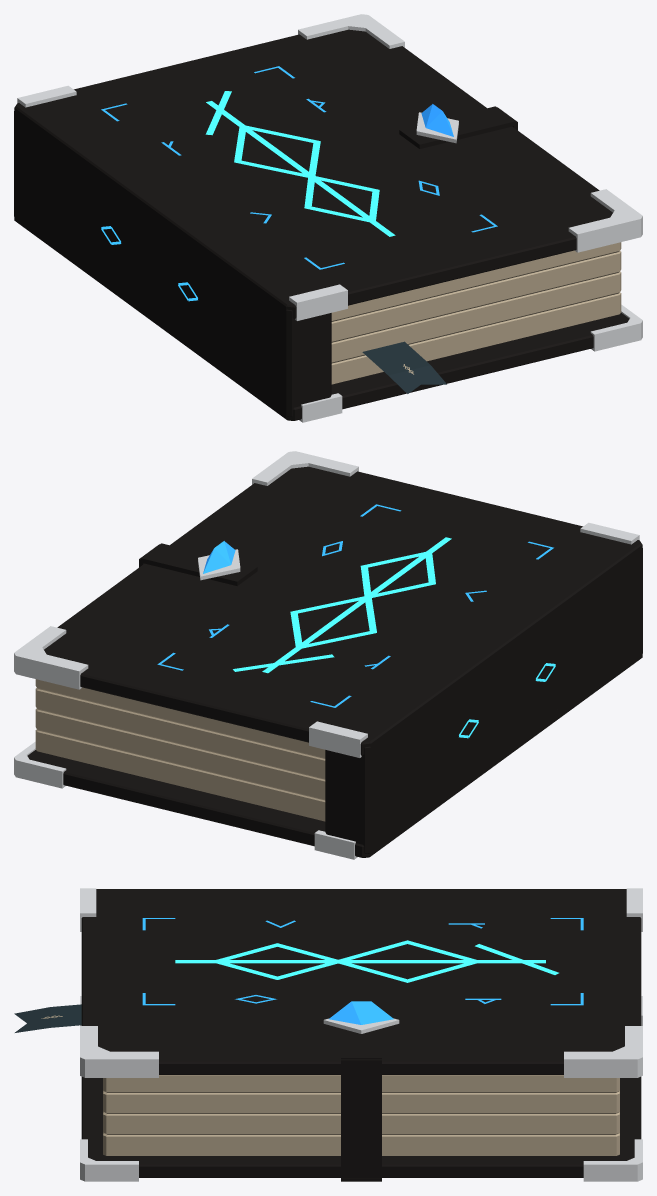
File: RunicCodex.fbx
3 views of the same model, one above another, from view 1: azimuth 30°, elevation 25°; view 2: azimuth 150°, elevation 25°; view 3: azimuth 270°, elevation 25° (orthographic).
Parts seen in each view (by area): view 1: RC_Leather, RC_Parchment, RC_Silver, RC_RunesPrimary, RC_Cloth, RC_RunesSecondary, RC_Crystal; view 2: RC_Leather, RC_Parchment, RC_Silver, RC_RunesPrimary, RC_RunesSecondary, RC_Crystal; view 3: RC_Leather, RC_Parchment, RC_Silver, RC_RunesPrimary, RC_Cloth, RC_Crystal, RC_RunesSecondary.
Part boxes in pixels (left/top/right/bottom): RC_Leather: left=14, top=29, right=629, bottom=420; RC_Parchment: left=331, top=242, right=621, bottom=384; RC_Silver: left=17, top=14, right=642, bottom=422; RC_RunesPrimary: left=101, top=91, right=395, bottom=301; RC_Cloth: left=362, top=341, right=446, bottom=393; RC_RunesSecondary: left=101, top=66, right=497, bottom=269; RC_Crystal: left=421, top=104, right=453, bottom=136; RC_Leather: left=27, top=466, right=642, bottom=857; RC_Parchment: left=35, top=679, right=325, bottom=821; RC_Silver: left=14, top=451, right=639, bottom=859; RC_RunesPrimary: left=233, top=537, right=555, bottom=738; RC_RunesSecondary: left=157, top=504, right=553, bottom=707; RC_Crystal: left=203, top=541, right=235, bottom=573; RC_Leather: left=81, top=889, right=641, bottom=1181; RC_Parchment: left=41, top=1015, right=619, bottom=1155; RC_Silver: left=80, top=888, right=642, bottom=1181; RC_RunesPrimary: left=175, top=940, right=558, bottom=982; RC_Cloth: left=14, top=1004, right=81, bottom=1032; RC_Crystal: left=329, top=1001, right=393, bottom=1024; RC_RunesSecondary: left=142, top=918, right=583, bottom=1005.
Size of the model in its own units: 0.2534 by 0.0985 by 0.382.
